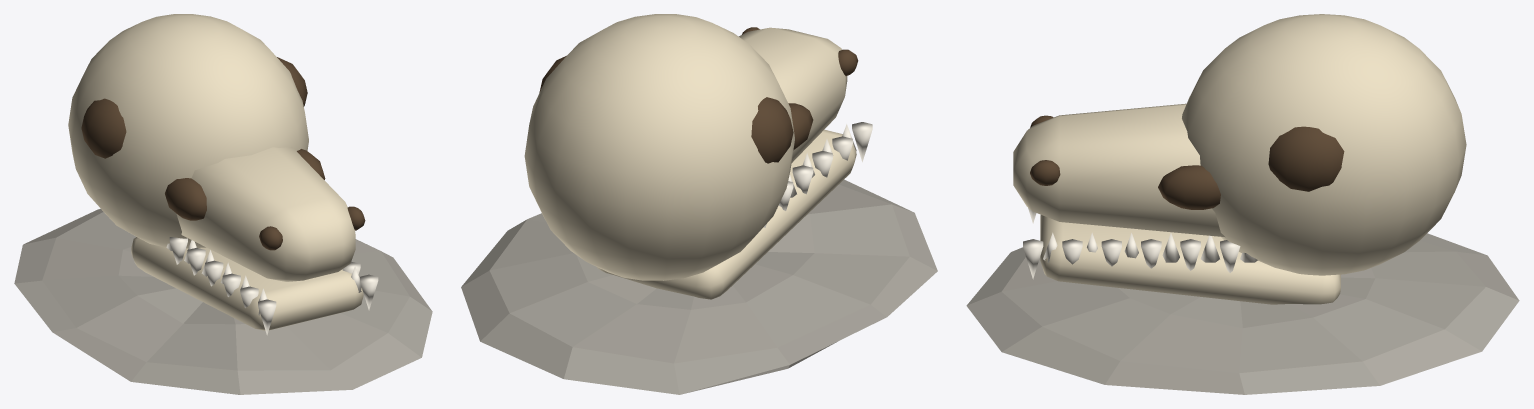
The model's file is fossil-dino-skull.glb.
3 renders of one model, left to right at view 1: azimuth 30°, elevation 25°; view 2: azimuth 150°, elevation 25°; view 3: azimuth 270°, elevation 25°, orthographic. The views are drawn at different scales.
Parts seen in each view (by area): view 1: fossil; view 2: fossil; view 3: fossil.
Part boxes in pixels (x1=…): fossil: x1=14, y1=14, x2=432, y2=394; fossil: x1=461, y1=14, x2=937, y2=394; fossil: x1=966, y1=14, x2=1519, y2=394.
Size of the model in its own units: 0.2933 by 0.2112 by 0.3706.
